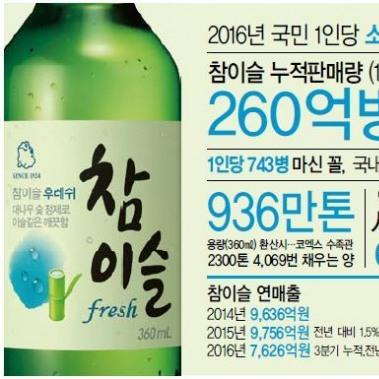soju: (2, 3, 184, 378)
